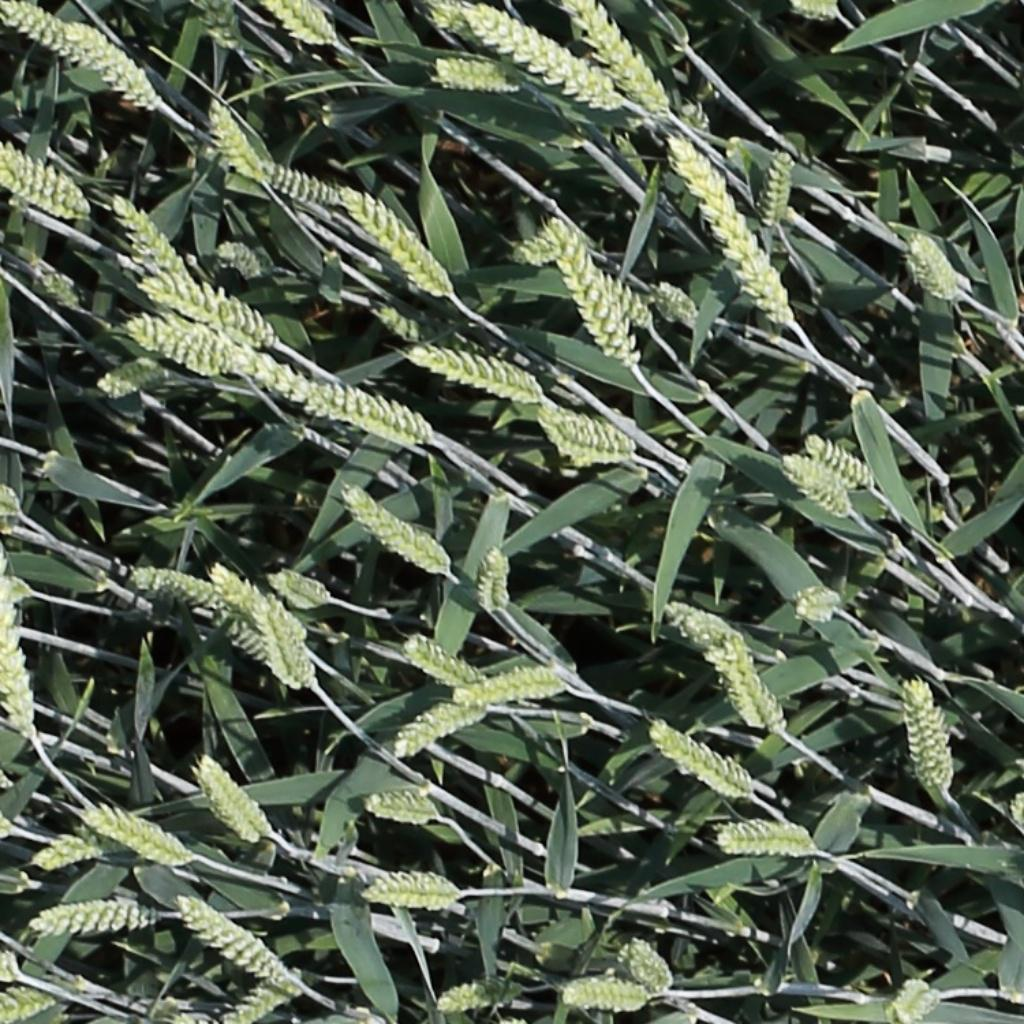0-0: (666, 124, 798, 329), (422, 0, 615, 95), (248, 357, 431, 443), (24, 5, 160, 116), (341, 182, 453, 296), (567, 0, 673, 118), (173, 892, 290, 987), (554, 244, 641, 367), (209, 559, 314, 651), (345, 488, 450, 572), (644, 718, 752, 795), (143, 277, 275, 338), (410, 344, 543, 401), (0, 0, 109, 69), (107, 188, 189, 279), (643, 601, 766, 661), (193, 753, 270, 847), (0, 541, 36, 741), (720, 637, 789, 738), (121, 557, 243, 614), (125, 318, 247, 374), (896, 678, 954, 794), (534, 402, 634, 469), (487, 212, 599, 268), (231, 619, 320, 689), (708, 637, 770, 734), (0, 147, 87, 215), (28, 894, 161, 938), (83, 809, 189, 864), (575, 258, 652, 332), (447, 662, 568, 709), (249, 593, 307, 689), (206, 92, 266, 184), (707, 817, 817, 865), (215, 967, 303, 1024), (394, 704, 490, 756), (419, 56, 532, 100), (782, 456, 854, 516), (436, 976, 526, 1022), (905, 229, 962, 300), (404, 638, 481, 689), (806, 434, 879, 487), (361, 785, 441, 833), (257, 0, 338, 46), (258, 161, 344, 203), (358, 871, 461, 906), (622, 936, 677, 995), (95, 362, 175, 402), (763, 141, 798, 232), (29, 254, 83, 311), (0, 979, 67, 1024), (473, 540, 509, 612), (652, 278, 704, 327), (549, 988, 652, 1010), (891, 978, 942, 1022), (203, 0, 244, 54), (375, 303, 425, 342), (270, 572, 330, 604), (32, 843, 101, 869), (217, 240, 262, 278), (902, 987, 946, 1022), (782, 0, 852, 18), (0, 946, 25, 986), (0, 456, 15, 509)
